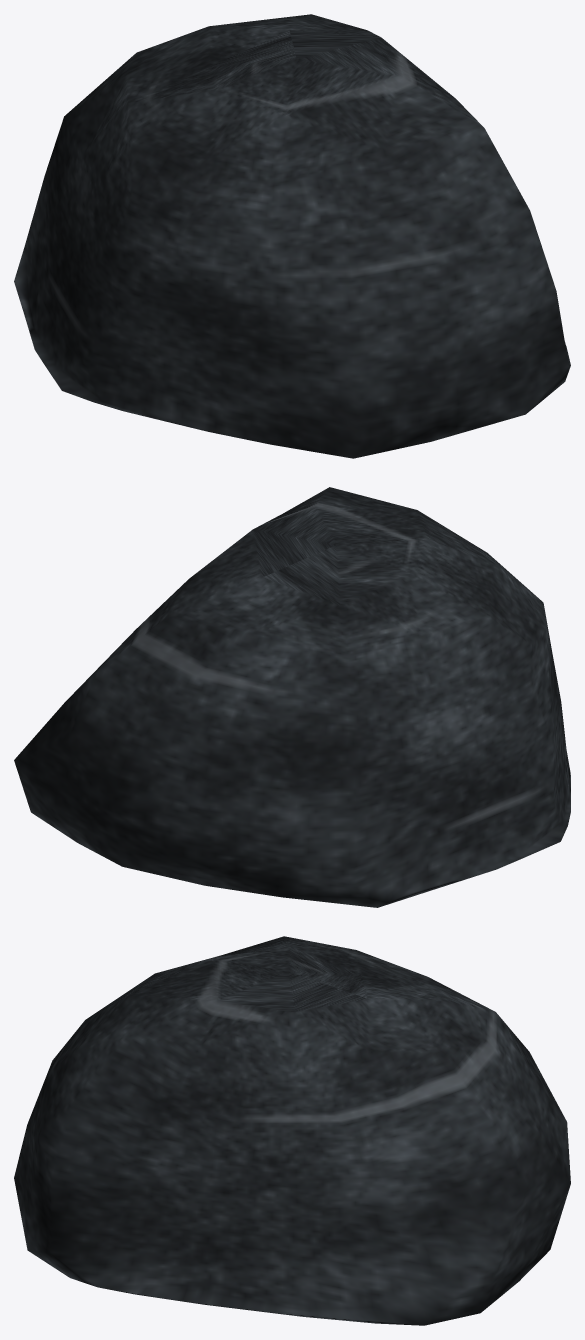
Rendered from rock_beach_wet_a.glb.
3 views of the same model, one above another, from view 1: azimuth 30°, elevation 25°; view 2: azimuth 150°, elevation 25°; view 3: azimuth 270°, elevation 25° (orthographic). The views are drawn at different scales.
Parts seen in each view (by area): view 1: rock_beach_wet_a; view 2: rock_beach_wet_a; view 3: rock_beach_wet_a.
Boxes of the visible parts, left/top/right/bottom form: rock_beach_wet_a: left=14, top=14, right=570, bottom=458; rock_beach_wet_a: left=14, top=487, right=570, bottom=907; rock_beach_wet_a: left=14, top=936, right=570, bottom=1325.
Bounding box in the file's own units: 1.69 × 0.8798 × 1.84.
1 material, 1 textured.
